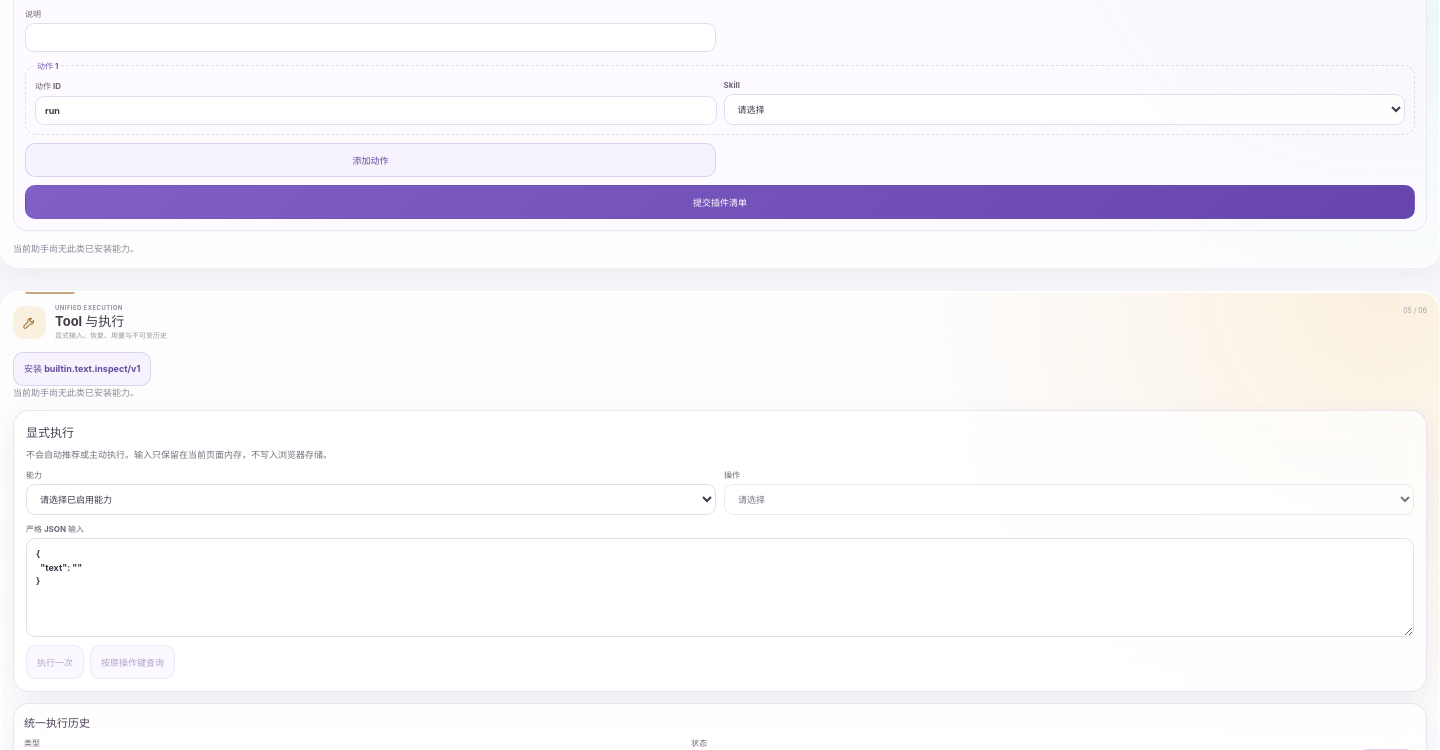
R6 UnifiedCapabilityManager › does not let a completed configuration notice hide a later execution result
(page scrolled)
Click the button "安装 builtin.text.inspect/v1". click: (82, 369)
box: [13,352,151,386]
(page scrolled)
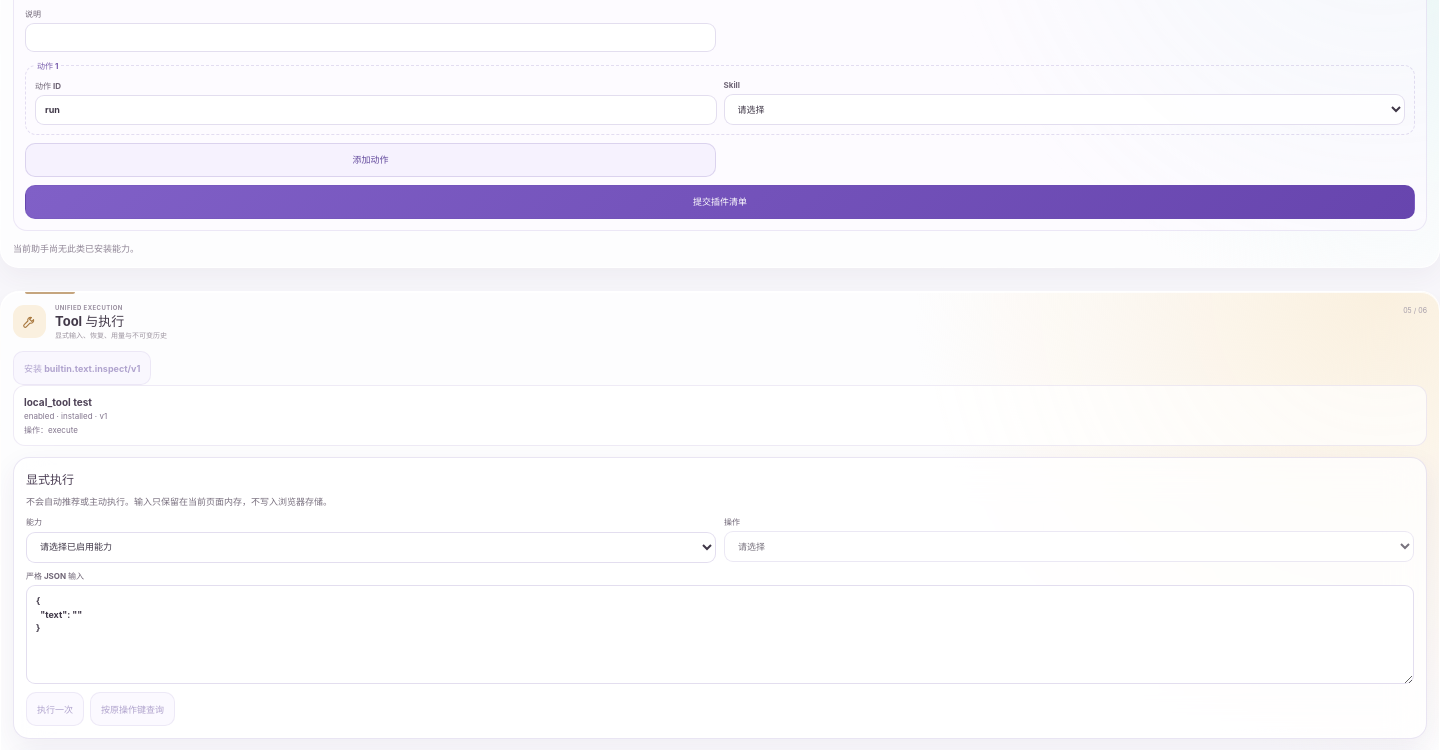
Select "本地 Tool · local_tool test" in the dropdown named "执行能力". click: (371, 547)
box: [26,532,716,563]
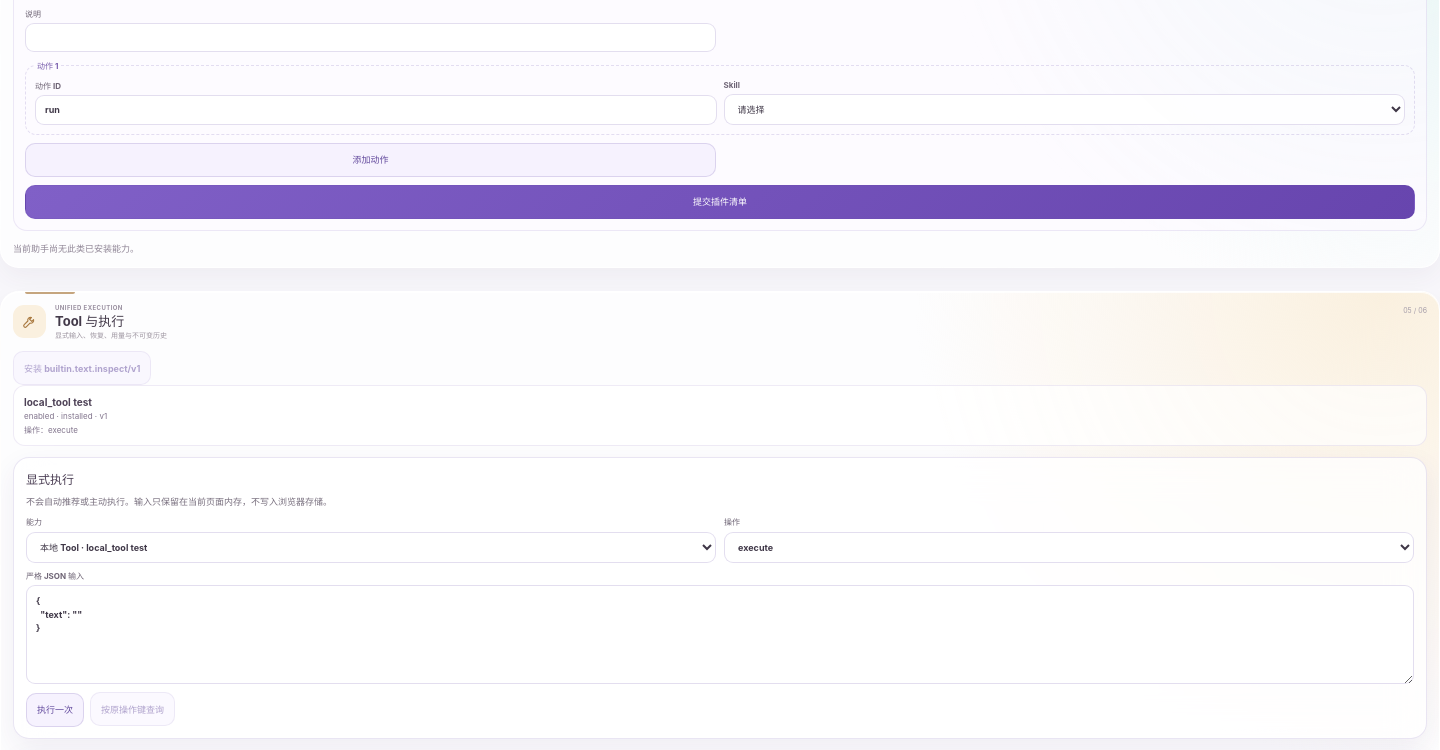
Click the button "执行一次". click: (55, 710)
box: [26,693,84,727]
(page scrolled)
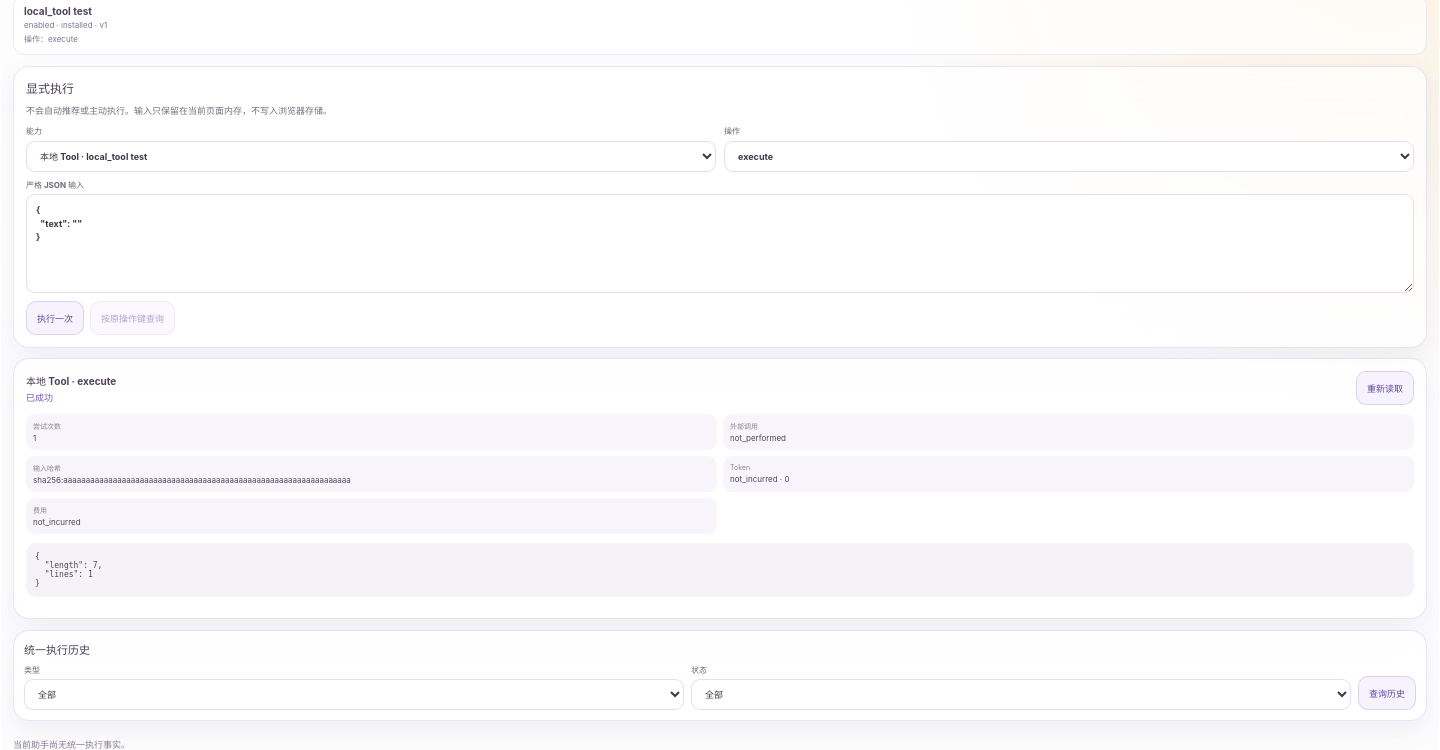
Expected: the element named "当前能力执行结果" shows "已成功", [26,392,53,403]
